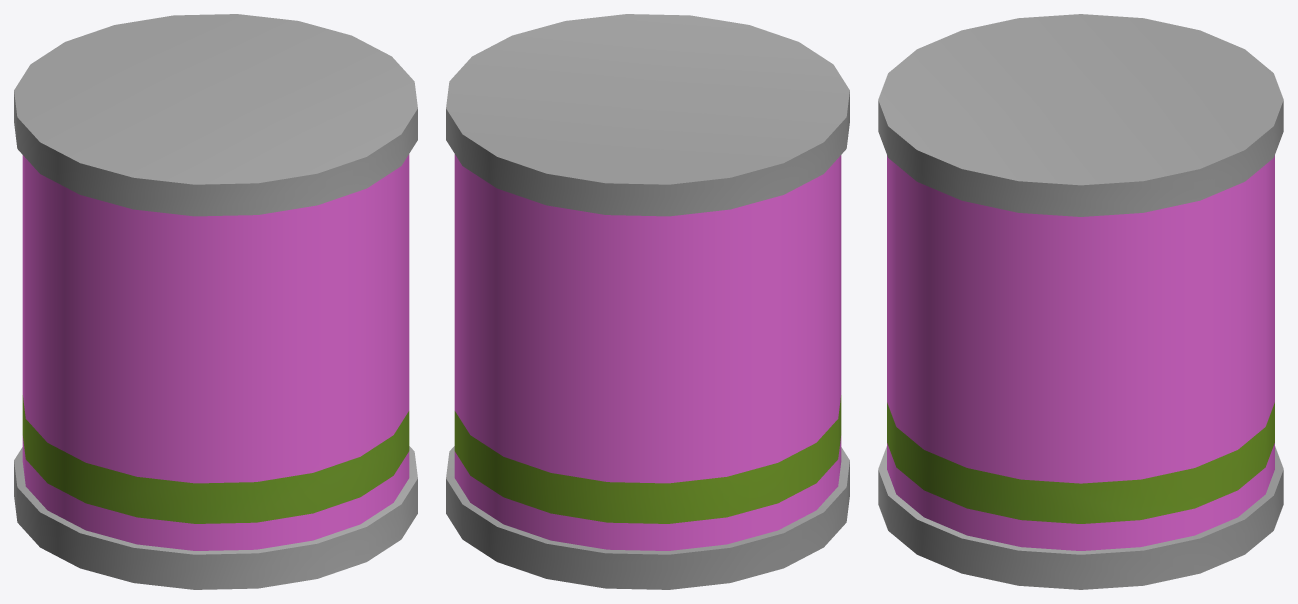
Rendered from Ürün30.fbx.
The picture shows the model from 3 angles, left to right: view 1: azimuth 30°, elevation 25°; view 2: azimuth 150°, elevation 25°; view 3: azimuth 270°, elevation 25°; orthographic projection.
Visible parts, largest first — view 1: pCylinder16; view 2: pCylinder16; view 3: pCylinder16.
Boxes of the visible parts, x1,y1,x2,y2 form: pCylinder16: (14,14,417,589); pCylinder16: (446,14,849,589); pCylinder16: (878,14,1283,589).
Bounding box in the file's own units: 9.51 × 10.47 × 9.51.
